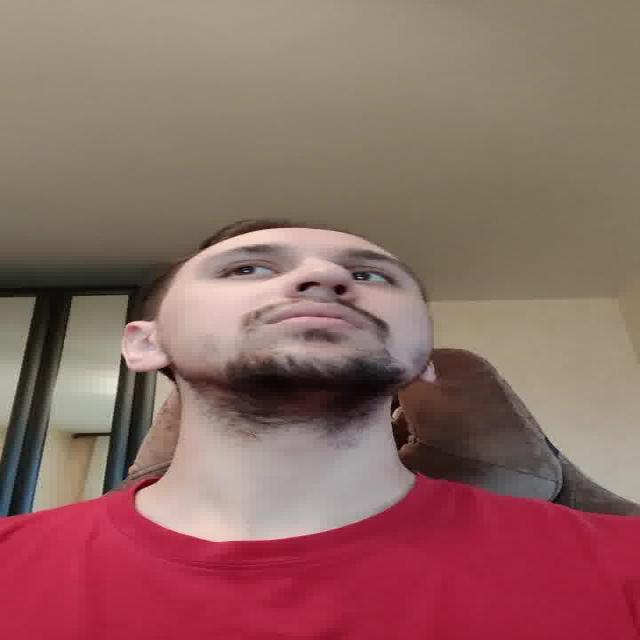earlobe: (126, 360, 176, 372), (418, 371, 439, 383)
eye: (214, 262, 278, 279), (349, 268, 397, 285)
nose: (290, 286, 358, 307)
wholeear: (122, 322, 180, 372)
